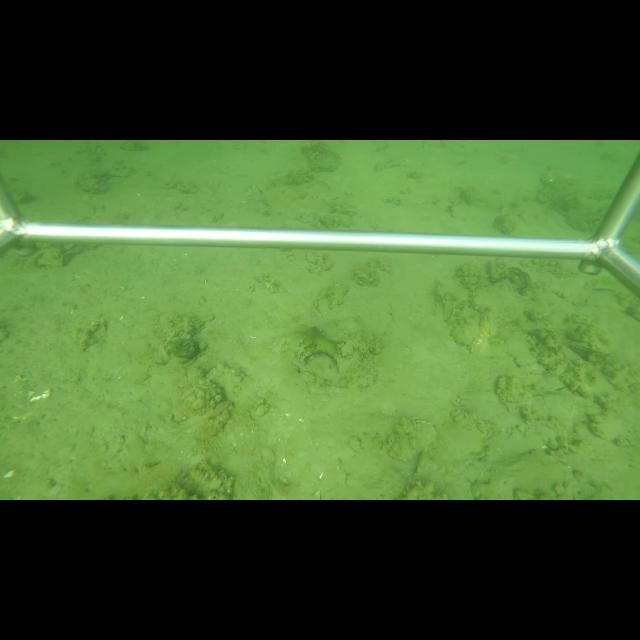Oyster-Closed: (468, 280, 533, 324), (449, 321, 481, 347), (180, 348, 216, 368)
Oyster-Open: (297, 347, 342, 381)
